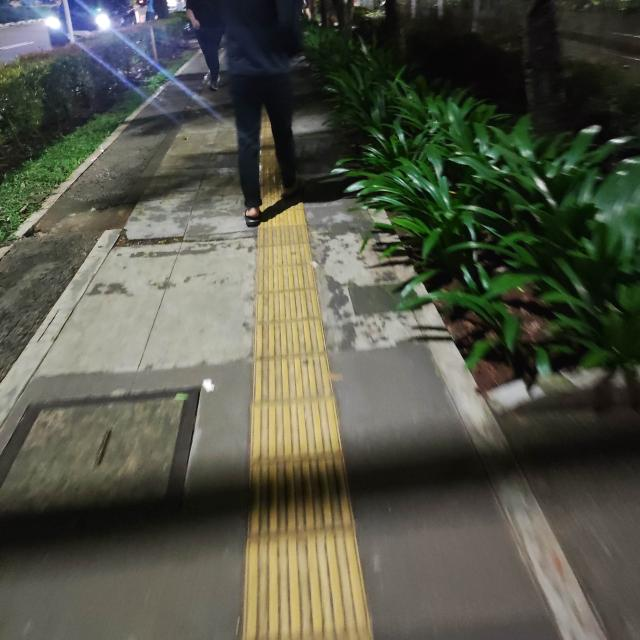lurus: (228, 214, 346, 640)
